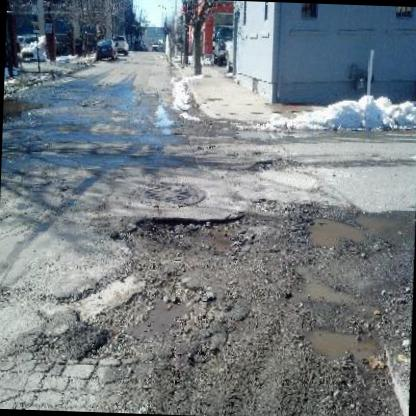pothole: (92, 266, 224, 362), (124, 206, 248, 260), (293, 204, 403, 254), (302, 320, 385, 366), (286, 259, 360, 306), (249, 158, 304, 176)
